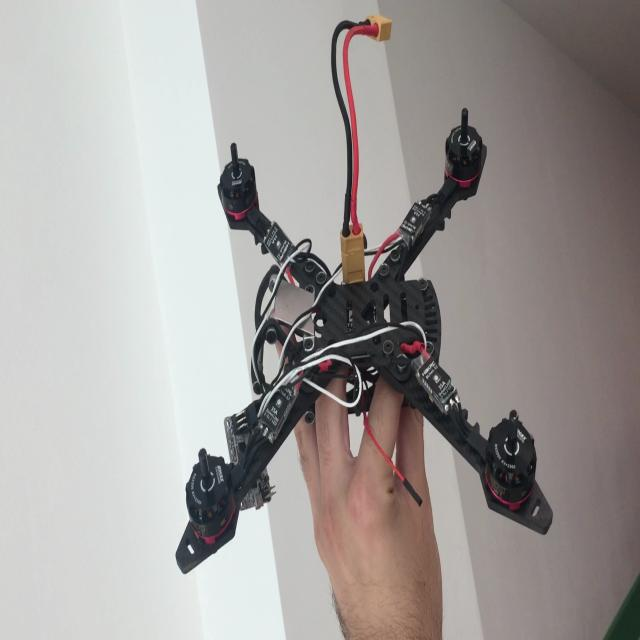drone: (171, 110, 554, 584)
